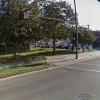Tree: (12, 2, 76, 49)
